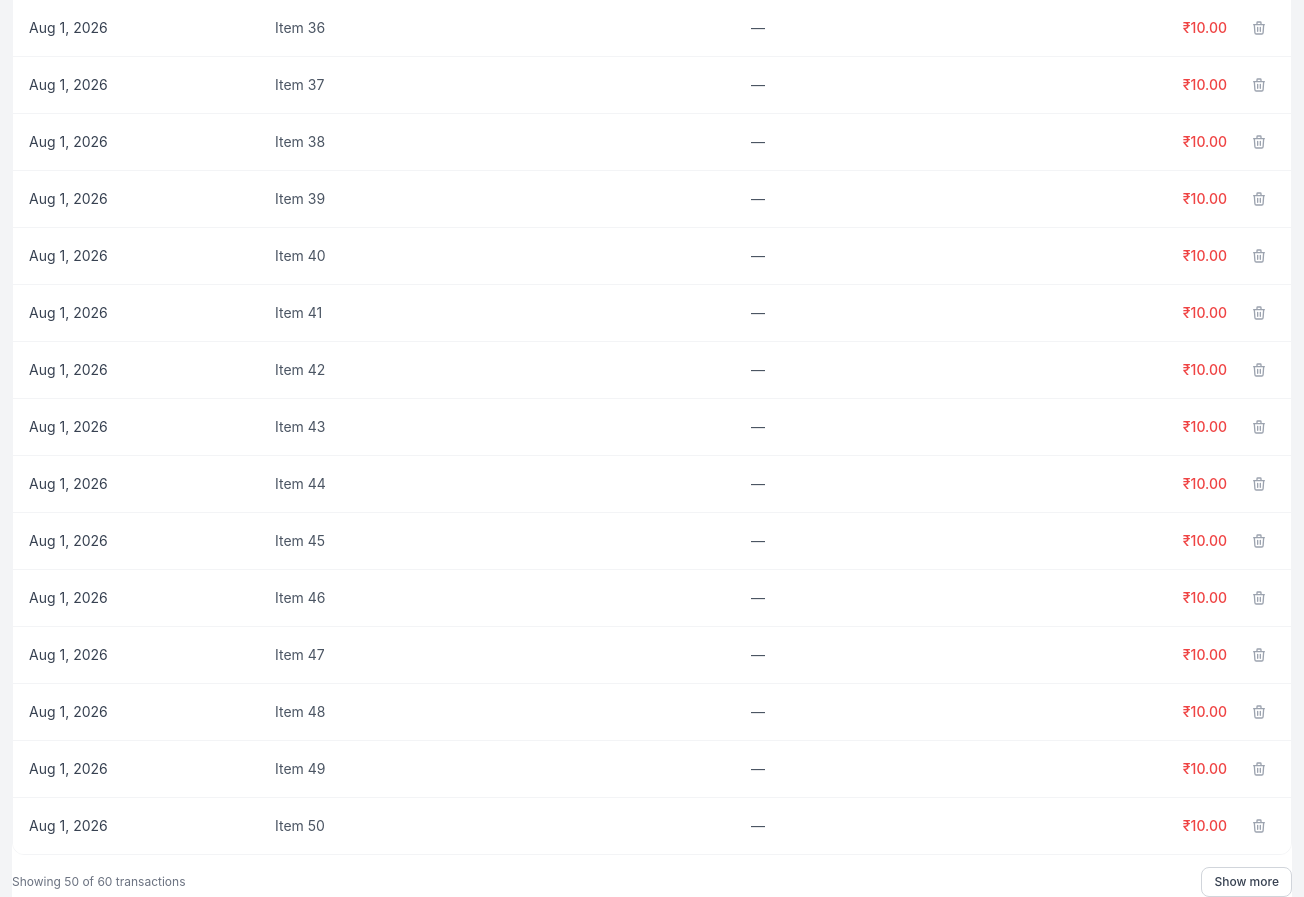
Test: TransactionList › shows the server total and reveals more rows on demand
(page scrolled)
Click the button "Show more". click: (1247, 882)
box: [1202, 867, 1292, 896]
(page scrolled)
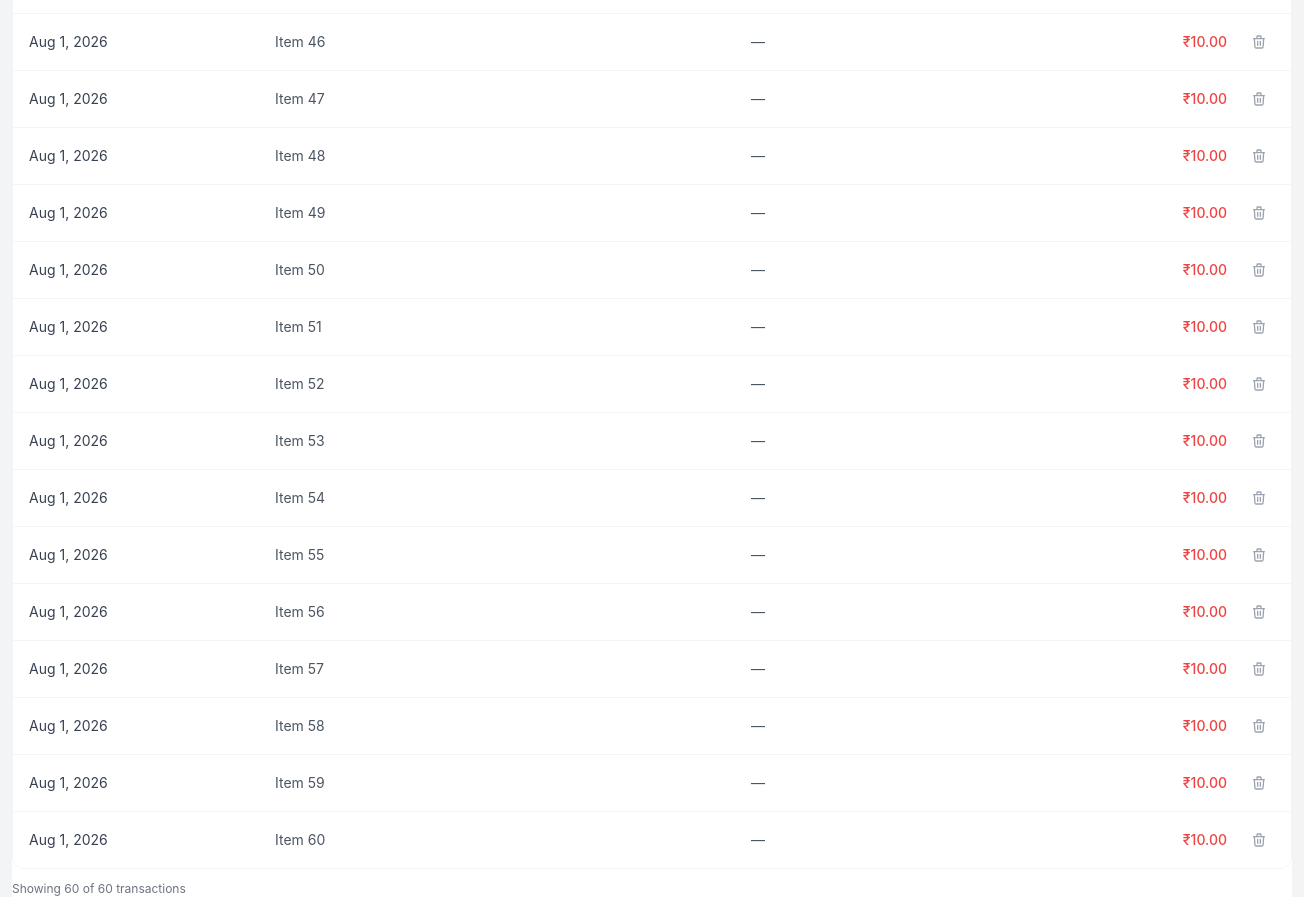
Expected: the button "Show more" is gone
